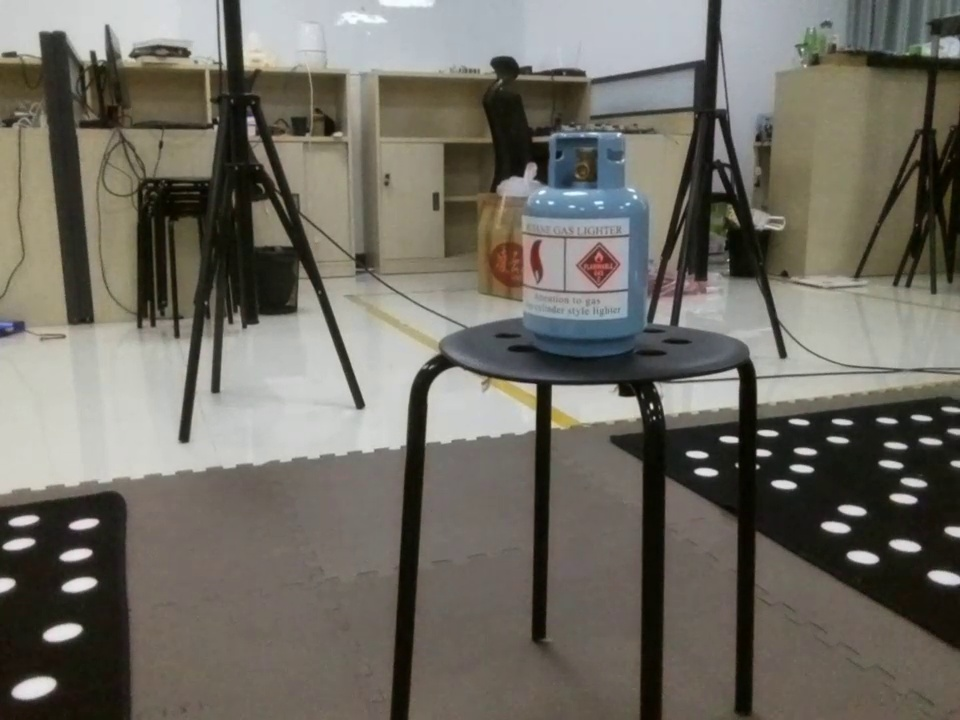gas tank: (515, 129, 654, 361)
